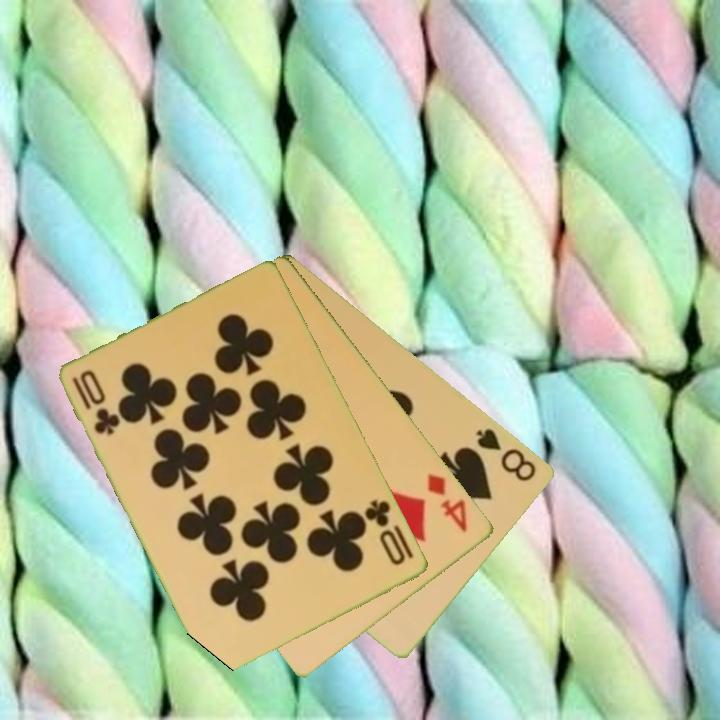10c: (69, 366, 123, 439), (361, 496, 409, 569)
4d: (424, 470, 471, 536)
8s: (473, 424, 540, 485)
